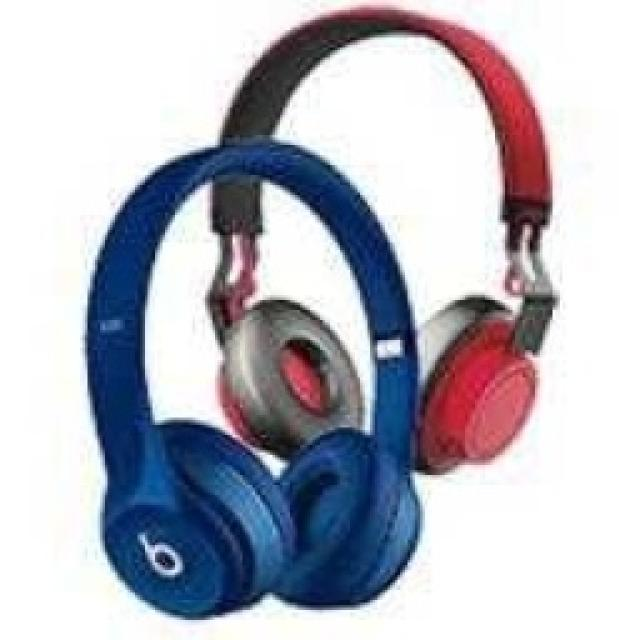headphones: (82, 0, 558, 618)
